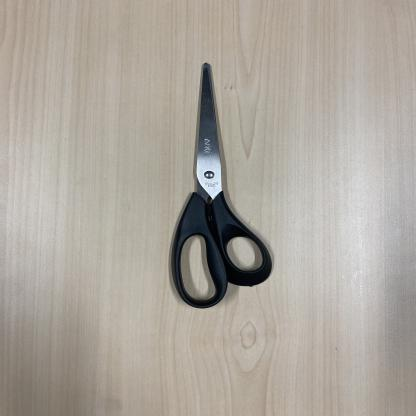scissors: (169, 63, 273, 310)
